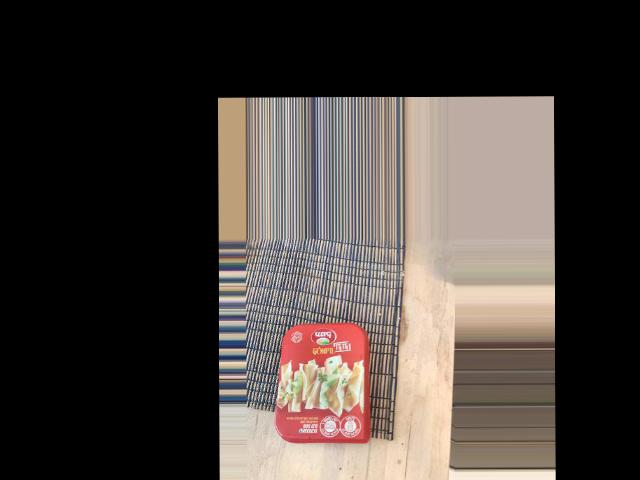cheese: (237, 271, 374, 357)
